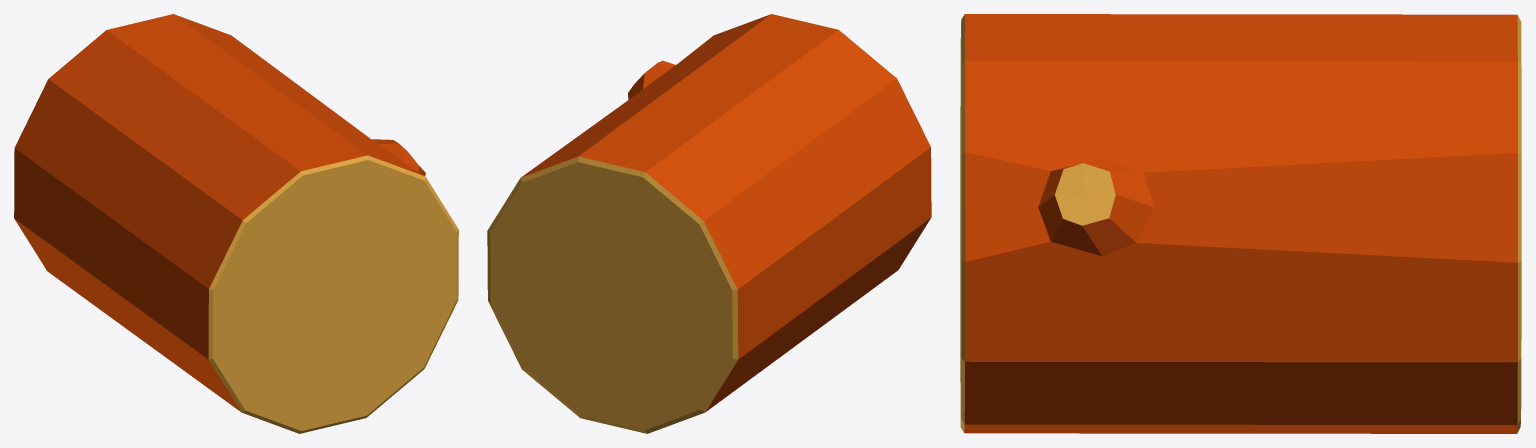
Rendered from stammKleinRoll.fbx.
3 views of the same model, side by side, from view 1: azimuth 30°, elevation 25°; view 2: azimuth 150°, elevation 25°; view 3: azimuth 270°, elevation 25° (orthographic). The views are drawn at different scales.
Parts seen in each view (by area): view 1: stammKleinRoll; view 2: stammKleinRoll; view 3: stammKleinRoll.
Boxes of the visible parts, <box> form: stammKleinRoll: <box>14,14,458,433</box>; stammKleinRoll: <box>487,14,931,433</box>; stammKleinRoll: <box>960,14,1521,433</box>.
Bounding box in the file's own units: 264 × 260 × 353.
